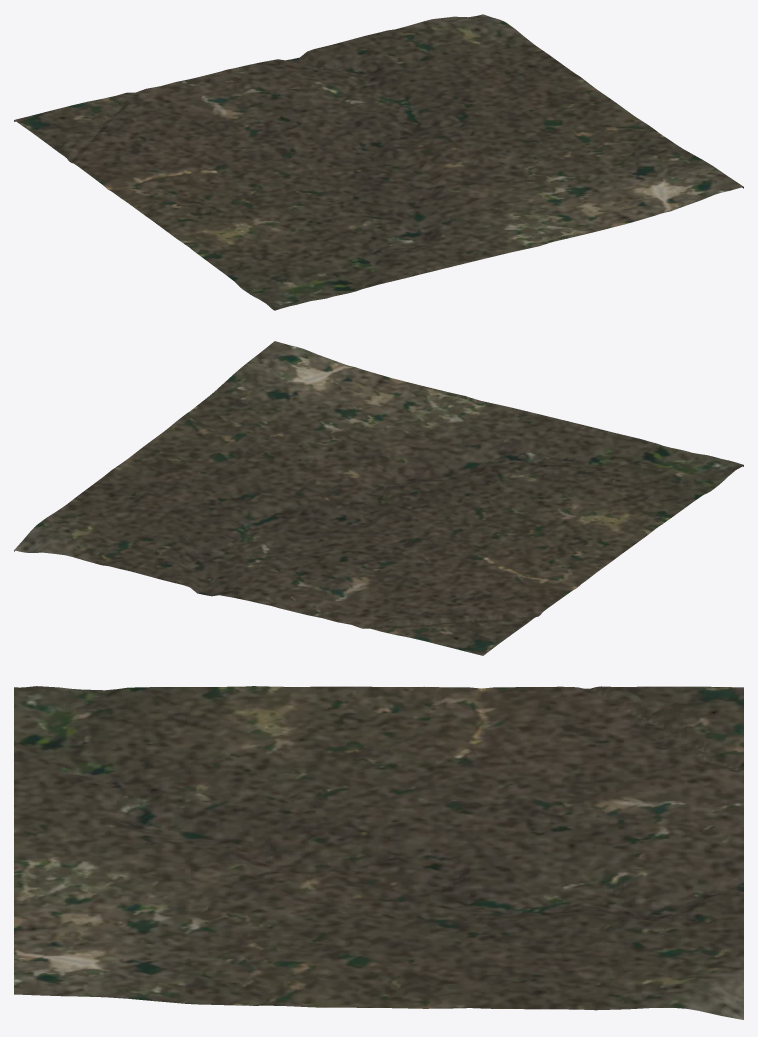
3 views of the same model, one above another, from view 1: azimuth 30°, elevation 25°; view 2: azimuth 150°, elevation 25°; view 3: azimuth 270°, elevation 25° (orthographic). The views are drawn at different scales.
Bounding box in the file's own units: 250 × 10.34 × 241.
Materials: 1 (1 with a texture image).
